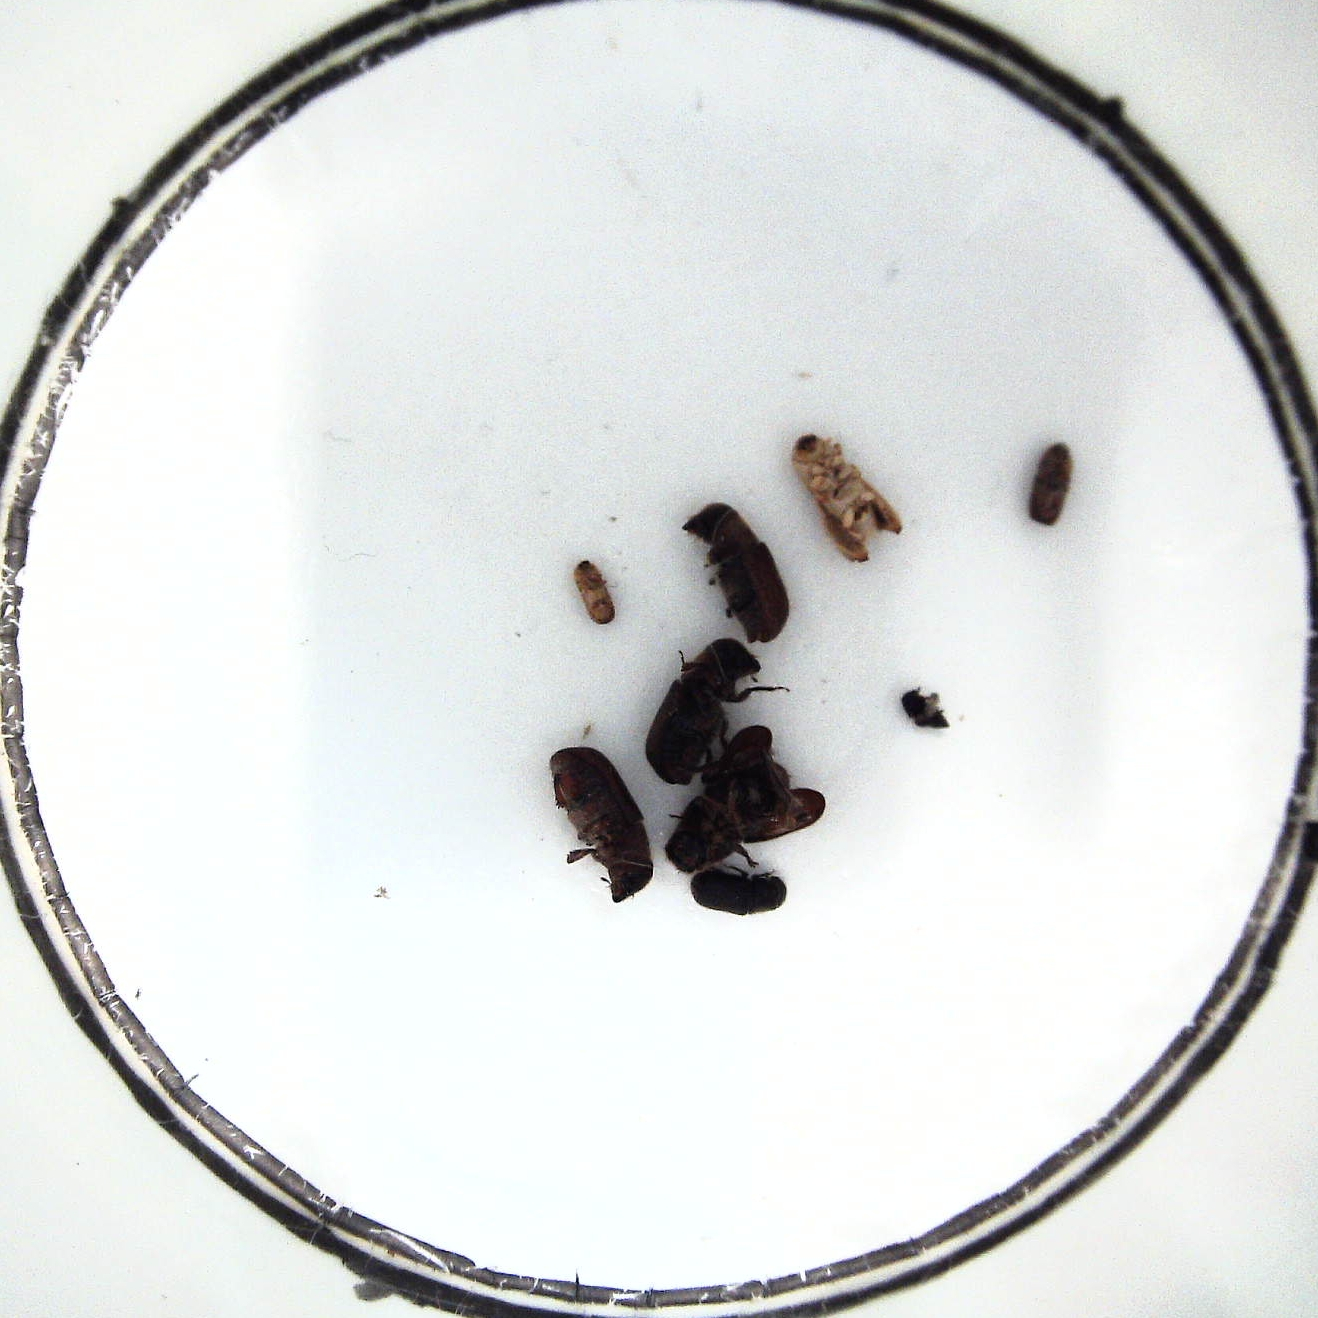Boerner: (788, 430, 903, 568)
Leconte: (667, 727, 824, 870), (547, 742, 657, 906), (686, 498, 795, 642), (649, 638, 760, 778)
Linnaeus: (1028, 437, 1074, 529)
acuminatus: (568, 556, 616, 625)
armandi: (686, 863, 788, 922)
coleoptera: (898, 686, 951, 730)
